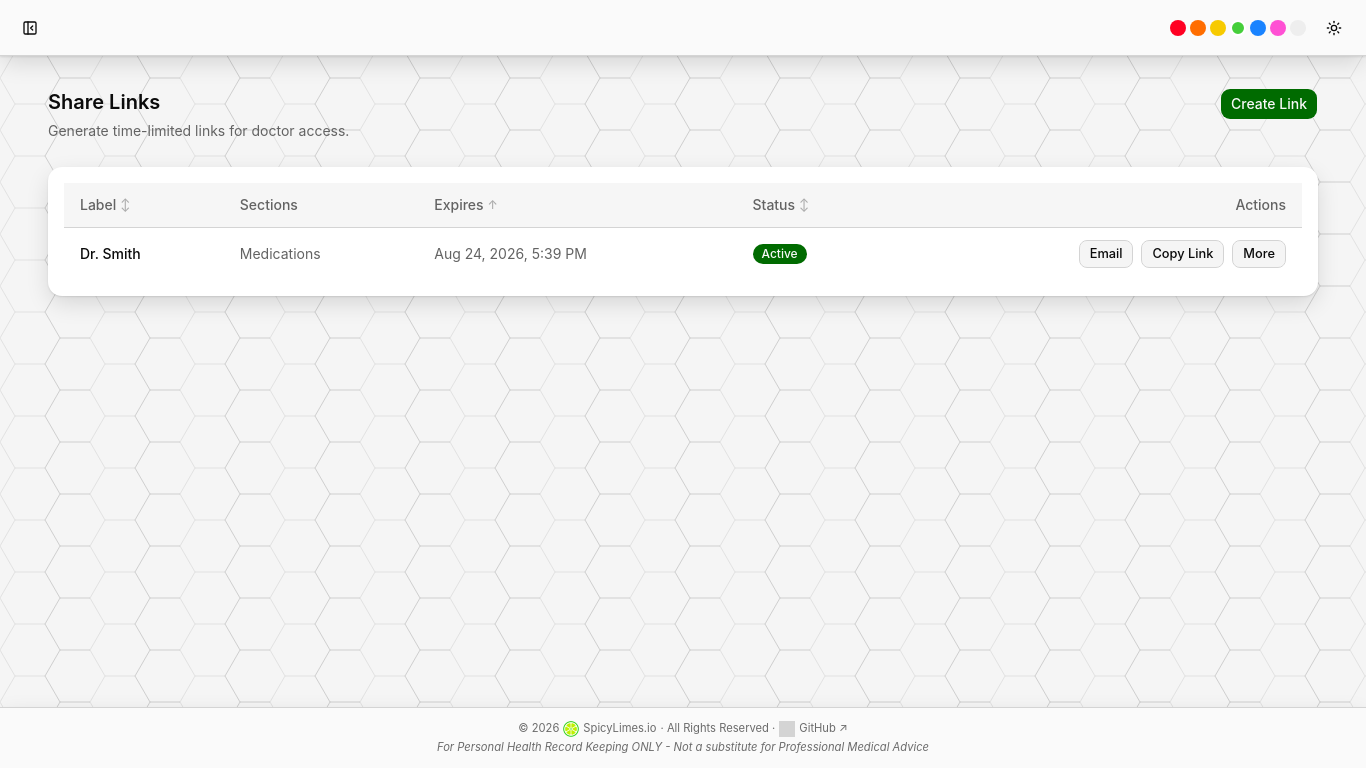
Test: ShareLinksPage › email failure shows error and keeps copy link available
Click the button "Email" at (1106,254), box [1079,240,1134,268]
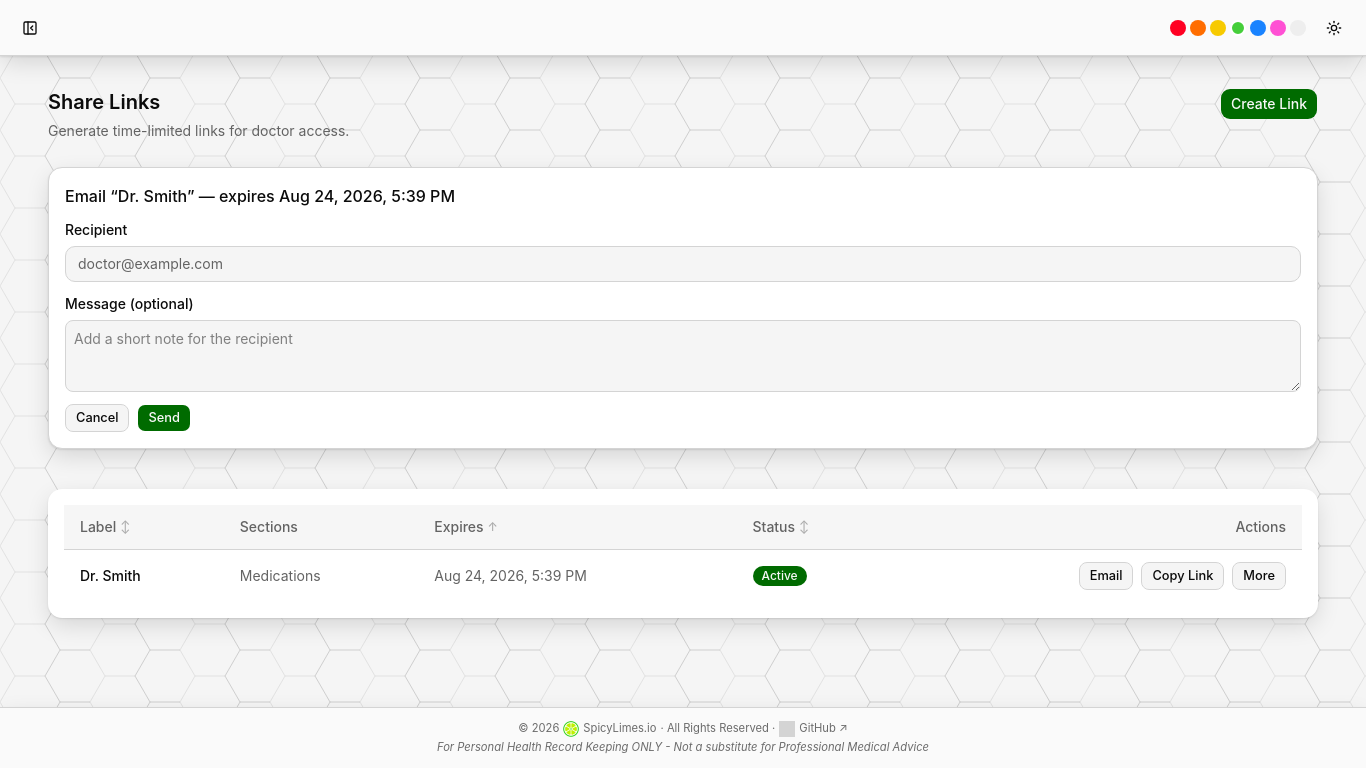
Type "dr@x.com" into the field labelled "Recipient" at (683,264), box [65,246,1301,282]
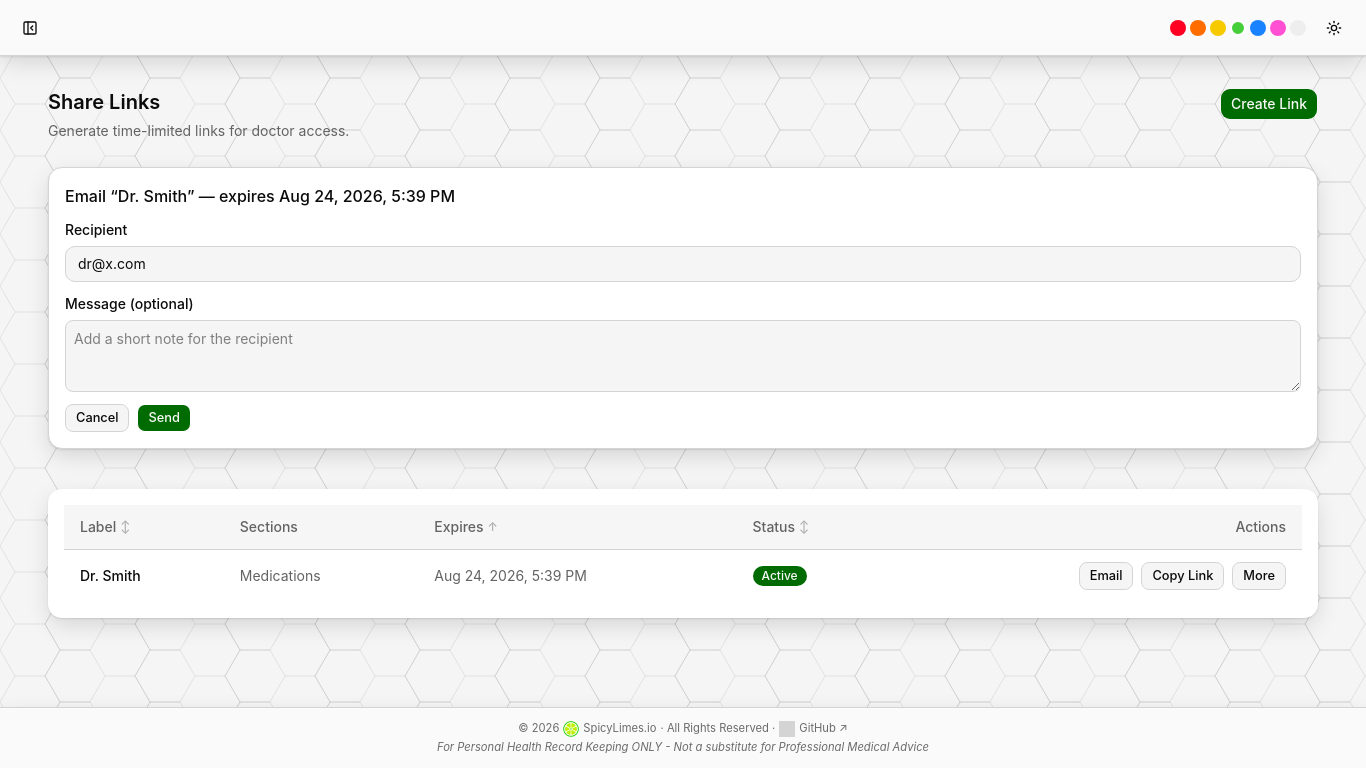
Click the button "Send" at (164,418), box [138,404,191,432]
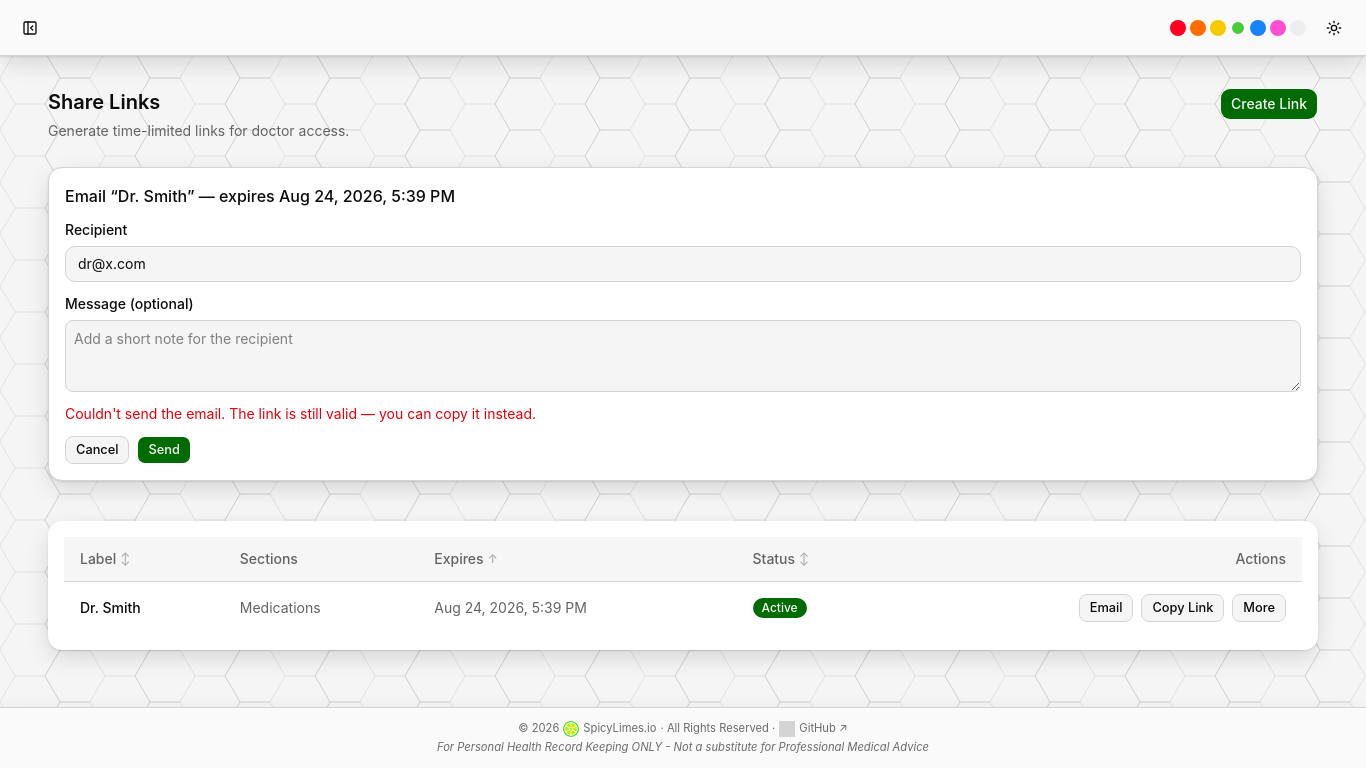
Check: the button "Copy Link" is shown, box [1142,594,1224,622]
Check: the text "Couldn't send the email. The link is still valid — you can copy it instead." is shown, box [65,405,536,422]
